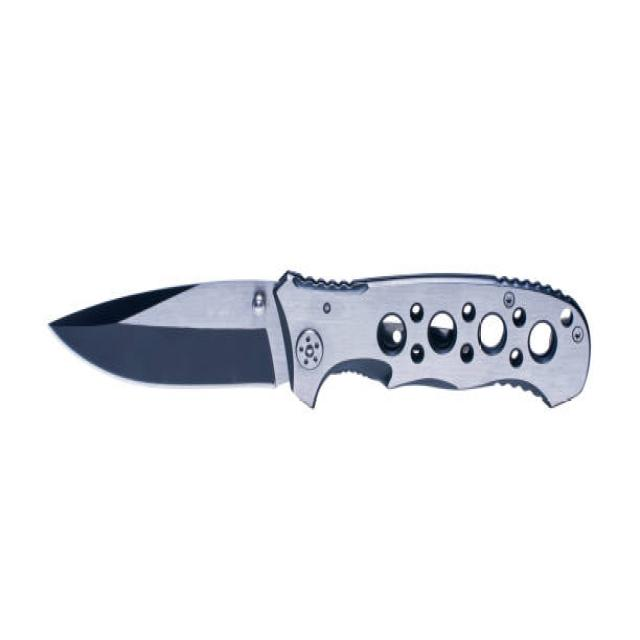knife: (45, 262, 595, 415)
